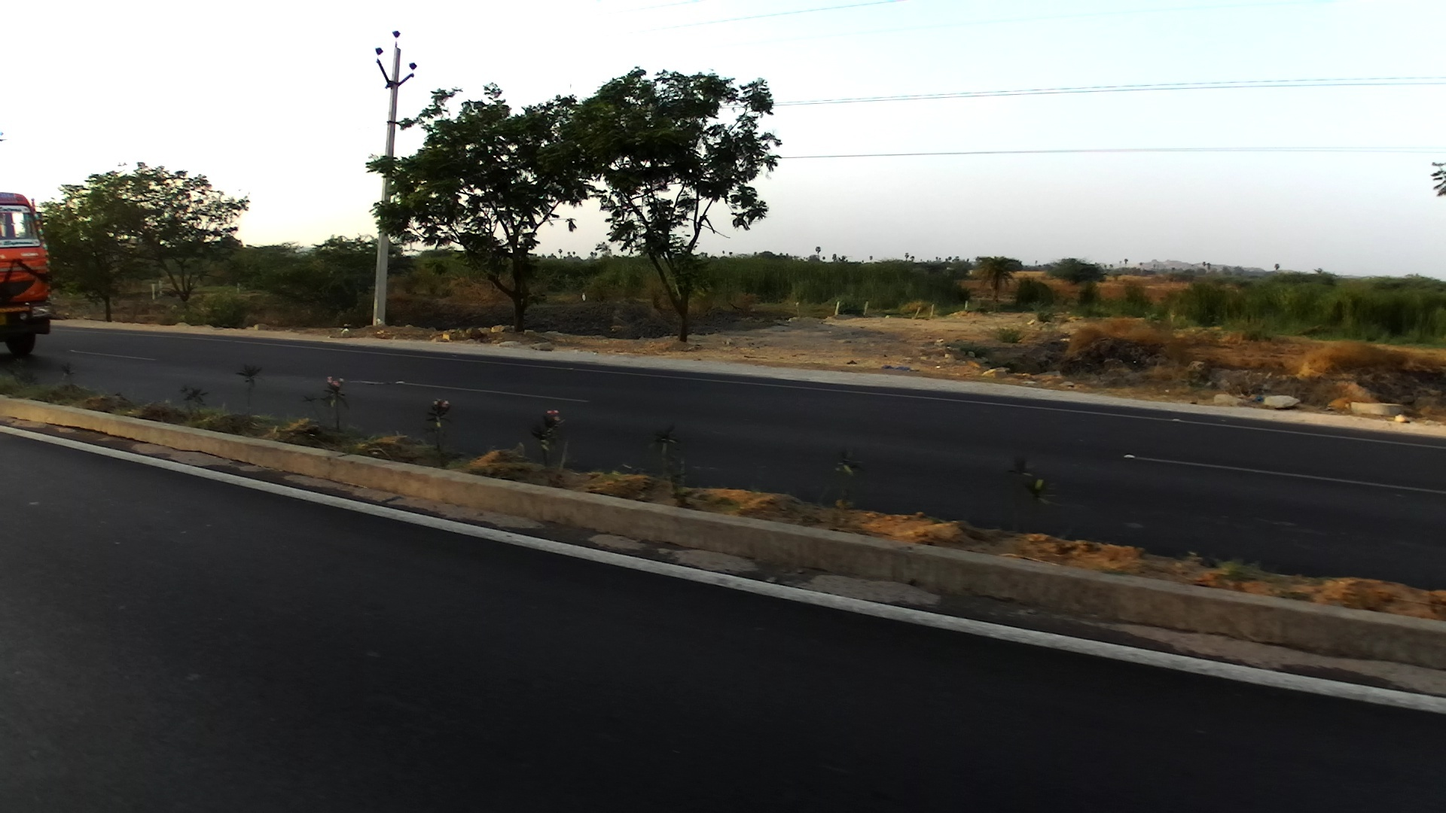truck: (1, 190, 56, 355)
